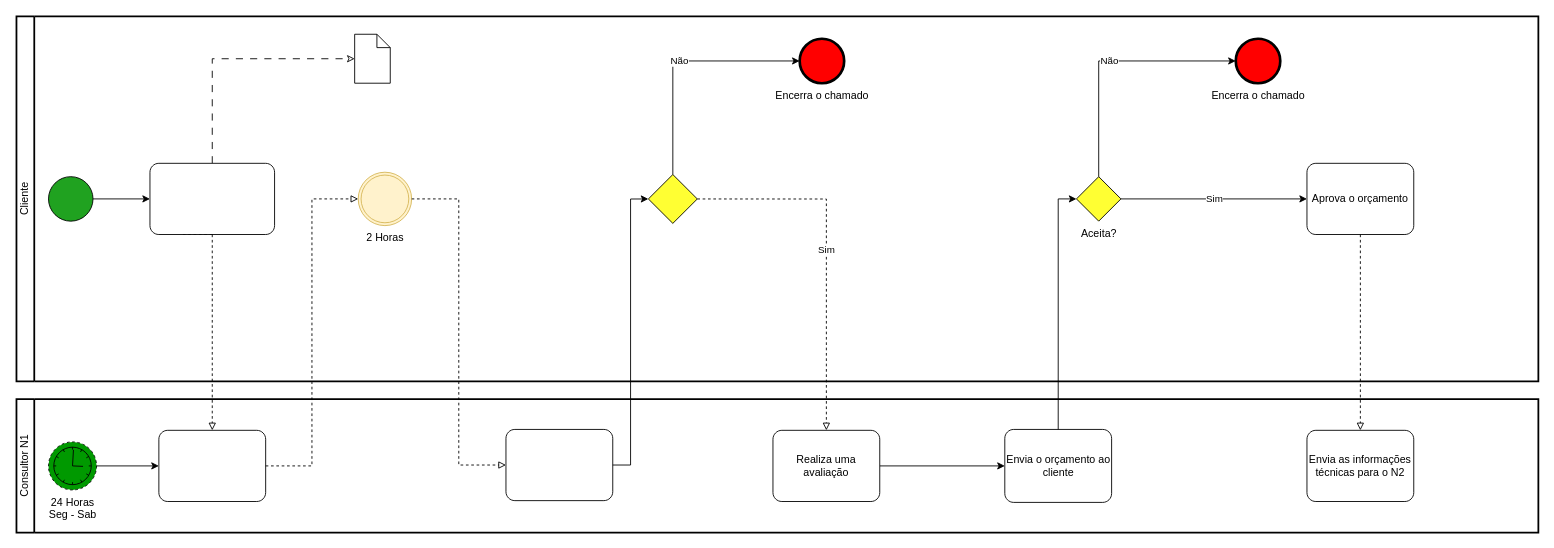
Image size: 1554x548. Some labels were removed from this diagram. Each missing label, with the box of its shape:
Abrir um chamado para AlexaHome Solutions: (149, 162, 275, 235)
Agenda um horário: (505, 429, 613, 501)
Aprova?: (647, 174, 697, 223)
Foto dos pontos de Instalação e modelo da Alexa.: (354, 33, 390, 83)
Inicio: (48, 176, 93, 221)
Recebe e analisa o chamado: (158, 429, 266, 502)
